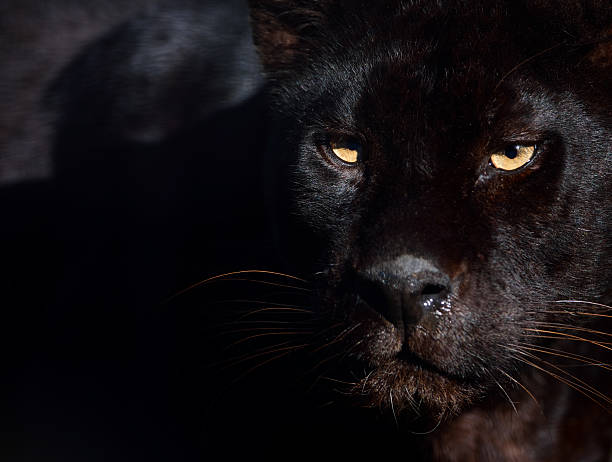panther: (225, 10, 612, 447)
